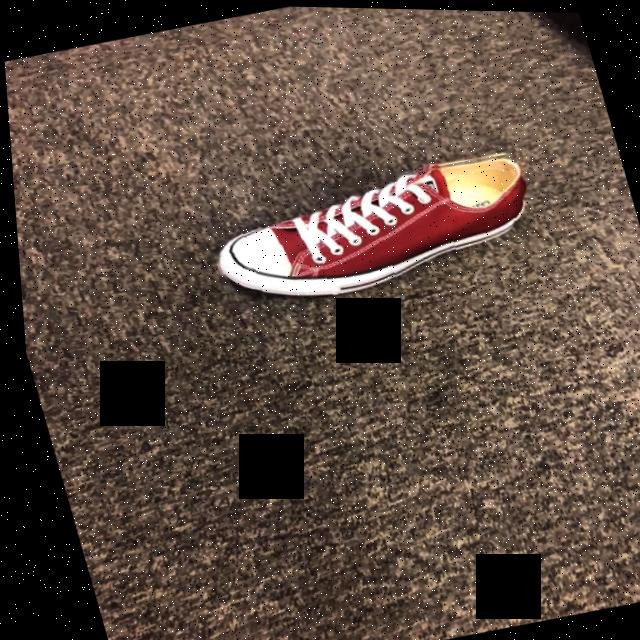shoe: (215, 154, 526, 298)
